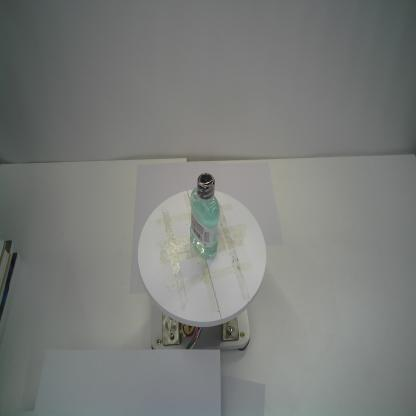Personal Hygiene: (187, 170, 221, 260)
